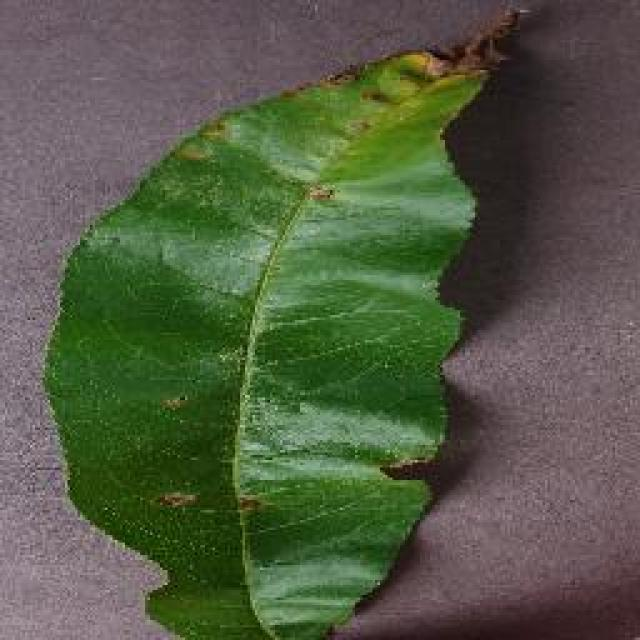Bacterial_spot: (426, 5, 520, 111), (121, 480, 244, 553), (300, 174, 357, 227)
